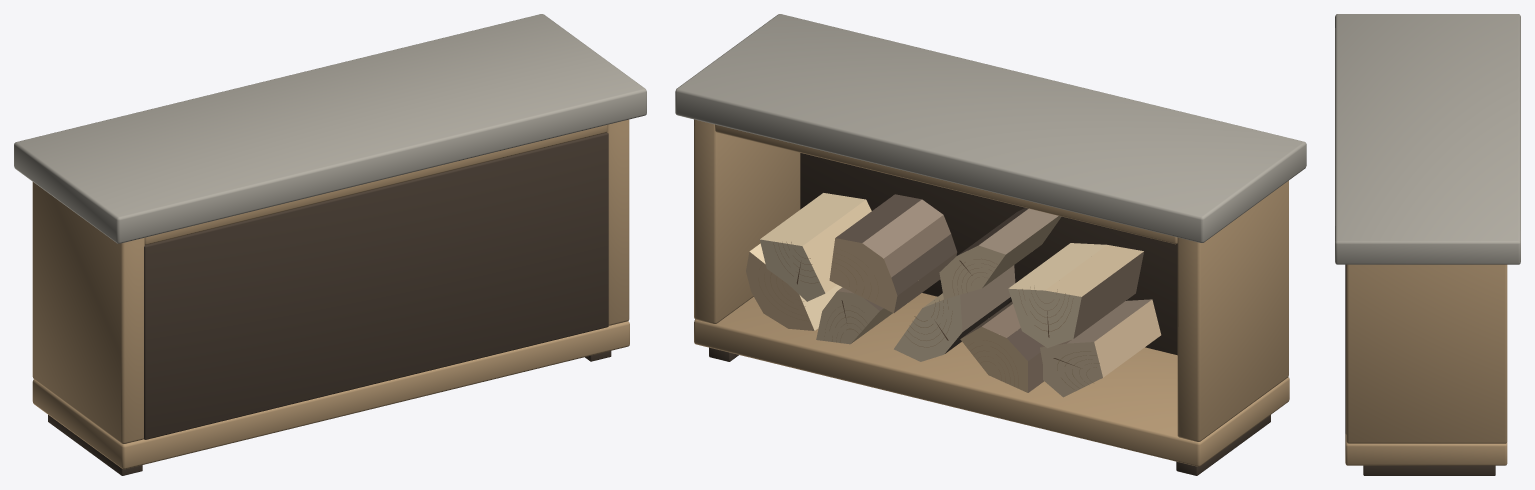
The model's file is detail-firewood.glb.
3 views of the same model, side by side, from view 1: azimuth 30°, elevation 25°; view 2: azimuth 150°, elevation 25°; view 3: azimuth 270°, elevation 25° (orthographic). The views are drawn at different scales.
Visible parts, largest first — view 1: core_living_log_gallery__gallery charcoal oak back, core_living_log_gallery__gallery honed smoke limestone, core_living_log_gallery__pale oak; view 2: core_living_log_gallery__gallery honed smoke limestone, core_living_log_gallery__pale oak, core_living_log_gallery__gallery charcoal oak back, core_living_log_gallery_billet_08, core_living_log_gallery_billet_06, core_living_log_gallery_billet_09, core_living_log_gallery_billet_01, core_living_log_gallery_billet_07, core_living_log_gallery_billet_03, core_living_log_gallery_billet_02, core_living_log_gallery_billet_05, core_living_log_gallery_billet_04 (+1 smaller); view 3: core_living_log_gallery__gallery honed smoke limestone, core_living_log_gallery__pale oak, core_living_log_gallery__gallery charcoal oak back.
Boxes of the visible parts, bbox=[...] form: core_living_log_gallery__gallery charcoal oak back: bbox=[48, 132, 611, 475]; core_living_log_gallery__gallery honed smoke limestone: bbox=[14, 14, 646, 243]; core_living_log_gallery__pale oak: bbox=[32, 119, 629, 469]; core_living_log_gallery__gallery honed smoke limestone: bbox=[675, 14, 1306, 242]; core_living_log_gallery__pale oak: bbox=[694, 119, 1289, 466]; core_living_log_gallery__gallery charcoal oak back: bbox=[709, 153, 1270, 475]; core_living_log_gallery_billet_08: bbox=[829, 194, 957, 313]; core_living_log_gallery_billet_06: bbox=[1008, 243, 1143, 348]; core_living_log_gallery_billet_09: bbox=[759, 193, 871, 301]; core_living_log_gallery_billet_01: bbox=[1040, 299, 1161, 397]; core_living_log_gallery_billet_07: bbox=[939, 208, 1061, 299]; core_living_log_gallery_billet_03: bbox=[894, 265, 1015, 361]; core_living_log_gallery_billet_02: bbox=[960, 301, 1043, 392]; core_living_log_gallery_billet_05: bbox=[746, 243, 842, 330]; core_living_log_gallery_billet_04: bbox=[816, 287, 892, 344]; core_living_log_gallery__gallery honed smoke limestone: bbox=[1335, 14, 1520, 264]; core_living_log_gallery__pale oak: bbox=[1345, 264, 1507, 465]; core_living_log_gallery__gallery charcoal oak back: bbox=[1345, 264, 1495, 475].
Size of the model in its own units: 1.05 by 0.52 by 0.36.
